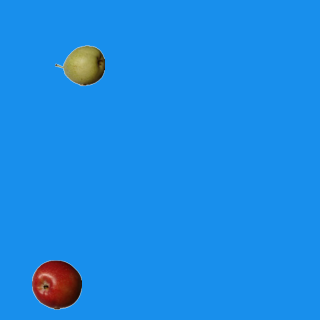Apple Braeburn: (31, 259, 81, 309)
Pear: (54, 40, 104, 90)
